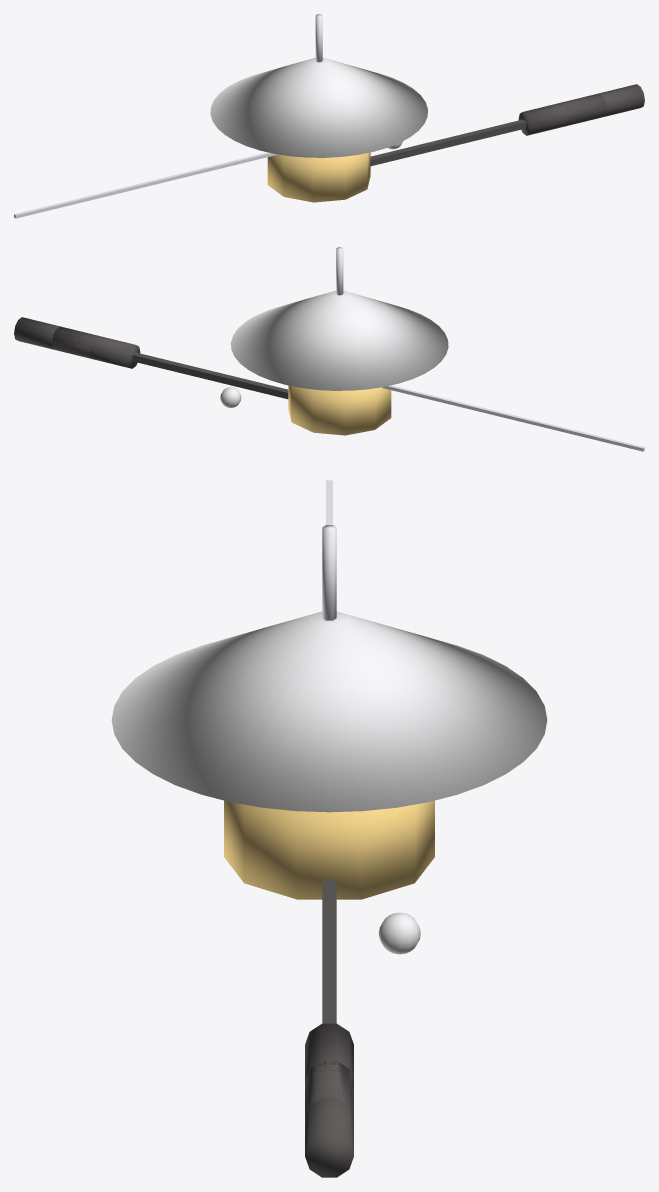
The model's file is probe.glb.
3 renders of one model, top to bottom at view 1: azimuth 30°, elevation 25°; view 2: azimuth 150°, elevation 25°; view 3: azimuth 270°, elevation 25°, orthographic. The views are drawn at different scales.
Visible parts, largest first — view 1: probe_dish, probe_bus, probe_rtg0, probe_boom, probe_mag, probe_rtg1, probe_feed; view 2: probe_dish, probe_bus, probe_rtg0, probe_boom, probe_rtg1, probe_mag, probe_feed, probe_inst; view 3: probe_dish, probe_bus, probe_rtg1, probe_rtg0, probe_boom, probe_feed, probe_inst.
Part boxes in pixels (<box>): probe_dish: <box>210,57,427,157</box>; probe_bus: <box>267,152,370,202</box>; probe_rtg0: <box>518,93,606,135</box>; probe_boom: <box>370,119,526,166</box>; probe_mag: <box>14,152,276,218</box>; probe_rtg1: <box>564,84,644,126</box>; probe_feed: <box>315,14,322,62</box>; probe_dish: <box>231,290,448,390</box>; probe_bus: <box>288,385,391,435</box>; probe_rtg0: <box>52,326,140,368</box>; probe_boom: <box>132,352,288,399</box>; probe_rtg1: <box>14,317,93,356</box>; probe_mag: <box>382,385,644,451</box>; probe_feed: <box>336,247,343,295</box>; probe_inst: <box>220,387,241,407</box>; probe_dish: <box>111,611,547,812</box>; probe_bus: <box>224,800,434,899</box>; probe_rtg1: <box>305,1061,353,1177</box>; probe_rtg0: <box>305,1023,353,1117</box>; probe_boom: <box>322,880,336,1023</box>; probe_feed: <box>322,525,336,620</box>; probe_inst: <box>378,912,420,954</box>.
Bounding box in the file's own units: 4.1 × 1.06 × 1.24.
